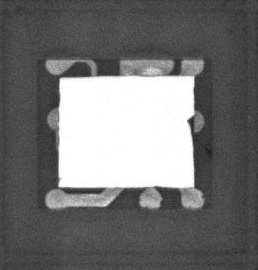DIE_BROKEN: (185, 114, 194, 143)
